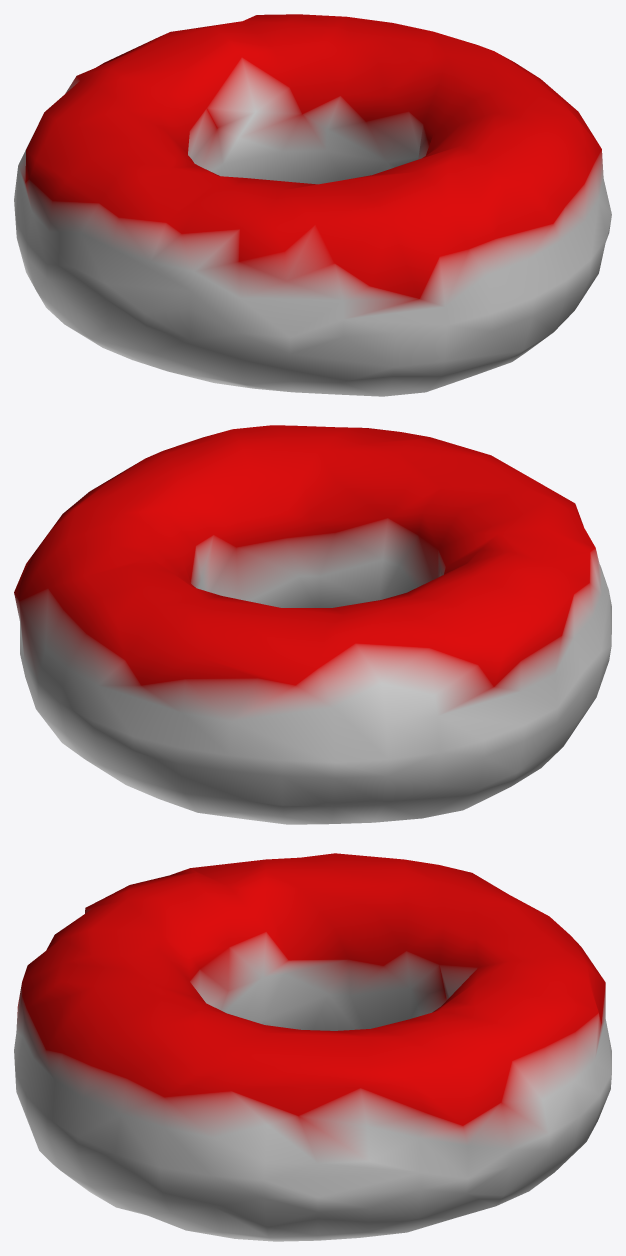
File: SM_Donut.fbx
The picture shows the model from 3 angles, top to bottom: view 1: azimuth 30°, elevation 25°; view 2: azimuth 150°, elevation 25°; view 3: azimuth 270°, elevation 25°; orthographic projection. The views are drawn at different scales.
Visible parts, largest first — view 1: donut; view 2: donut; view 3: donut.
Part boxes in pixels (x1,y1,x2,y2): donut: [14, 14, 611, 396]; donut: [14, 425, 611, 824]; donut: [14, 853, 611, 1241].
Bounding box in the file's own units: 3351 × 1307 × 3424.
